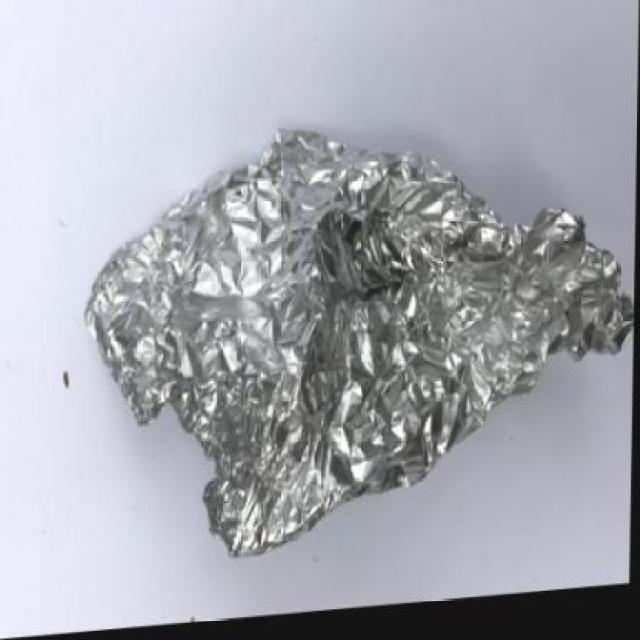Metal: (70, 116, 635, 562)
